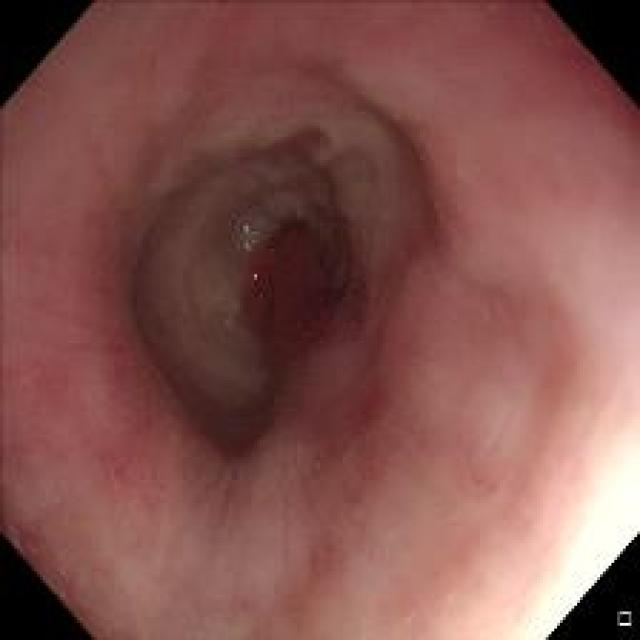blur: (61, 30, 526, 558)
color misalignment: (239, 220, 261, 254), (248, 268, 260, 285), (269, 246, 281, 261)
saturation: (494, 418, 638, 638)
